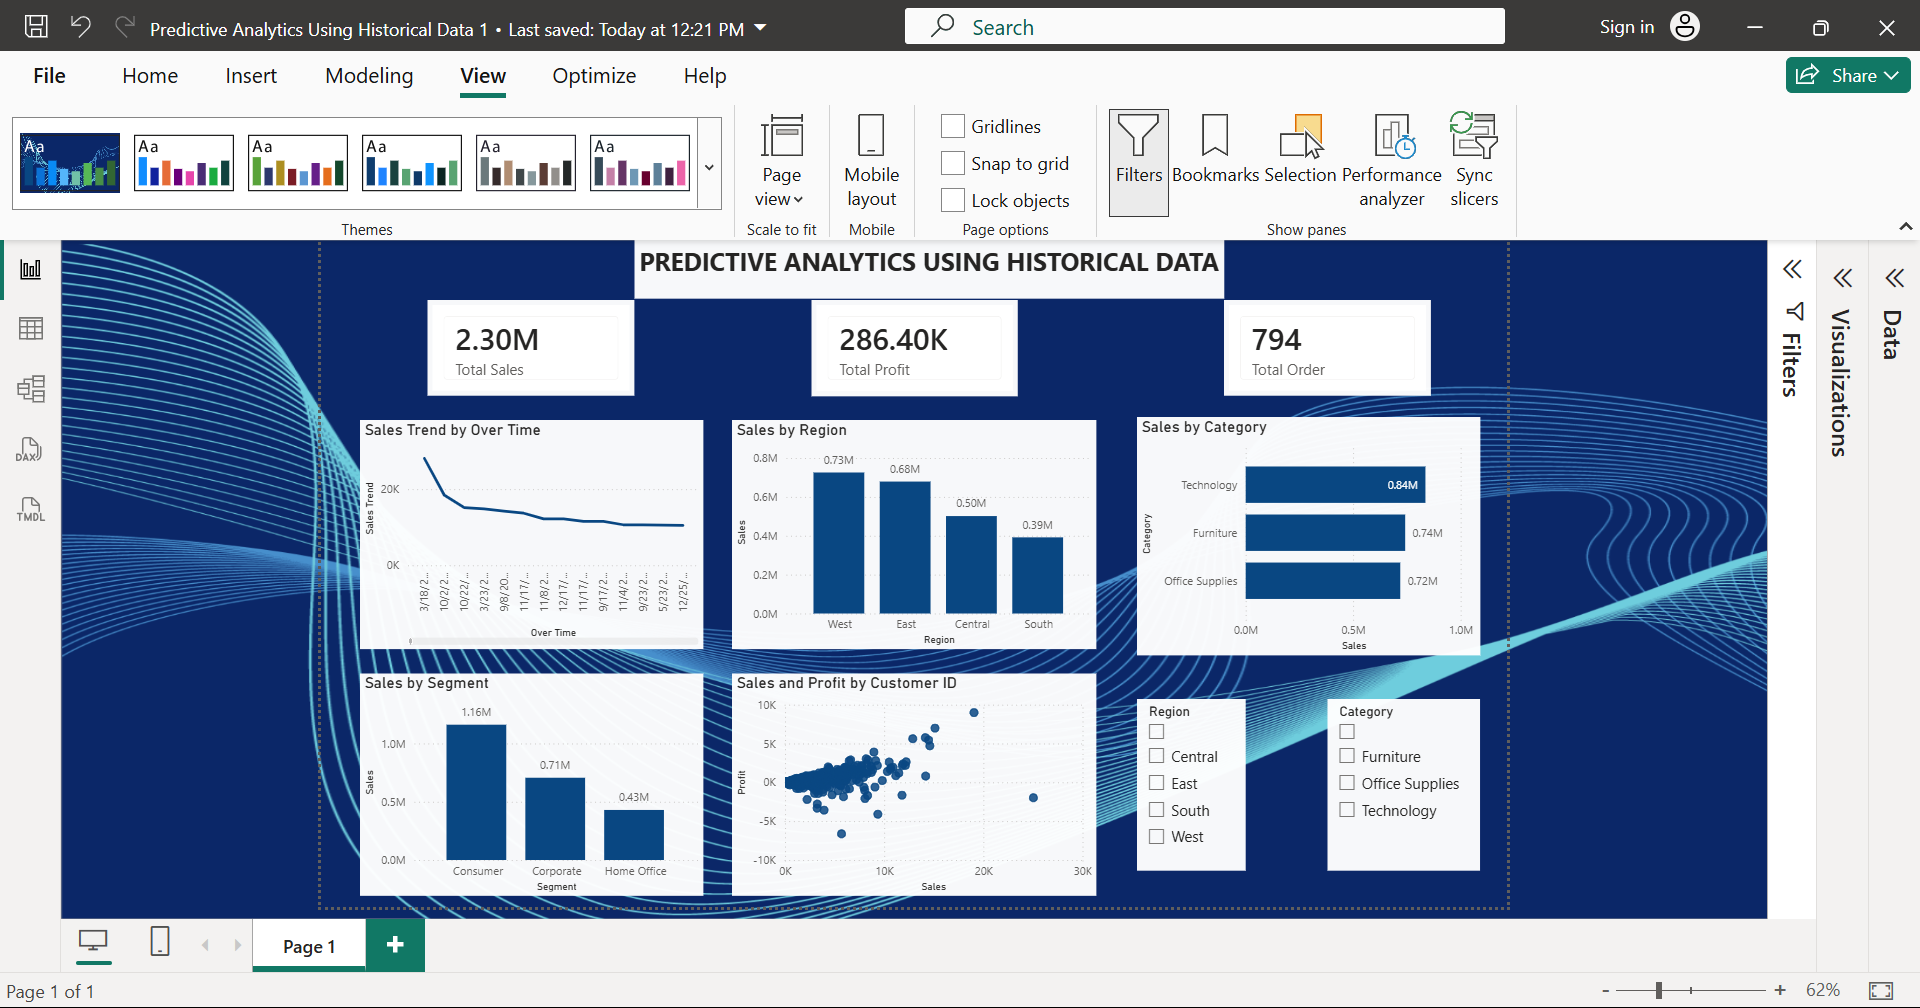

This screenshot's page, from the dashboard's own definition file:
{"tool":"powerbi","page":{"name":"Page 1","canvas":[1280,720],"ordinal":0},"visuals":[{"type":"cardVisual","fields":{"Data":["Sum(superstore.Sales)"]},"box":[115,64.8,223.5,103.6],"z":0},{"type":"cardVisual","fields":{"Data":["Sum(superstore.Profit)"]},"box":[529.1,64.3,223,103.9],"z":1000},{"type":"cardVisual","fields":{"Data":["Count(superstore.Customer ID)"]},"box":[974.8,64.8,223.5,103.6],"z":2000},{"type":"lineChart","fields":{"Y":["Sum(superstore.Sales)"],"Category":["superstore.Order Date"]},"box":[41.6,194.6,370.4,247.6],"z":3000},{"type":"clusteredColumnChart","fields":{"Category":["superstore.Region"],"Y":["Sum(superstore.Sales)"]},"box":[444.1,194.6,393.1,247.6],"z":3001},{"type":"clusteredBarChart","fields":{"Category":["superstore.Category"],"Y":["Sum(superstore.Sales)"]},"box":[880.6,190.9,370.4,257],"z":3002},{"type":"clusteredColumnChart","fields":{"Category":["superstore.Segment"],"Y":["Sum(superstore.Sales)"]},"box":[41.6,468.7,370.4,240],"z":3003},{"type":"scatterChart","fields":{"X":["Sum(superstore.Sales)"],"Y":["Sum(superstore.Profit)"],"Category":["superstore.Customer ID"]},"box":[444.1,468.7,393.1,240],"z":3004},{"type":"slicer","fields":{"Values":["superstore.Region"]},"box":[880.6,495.1,117.2,185.2],"z":3005},{"type":"slicer","fields":{"Values":["superstore.Category"]},"box":[1086.6,495.1,164.4,185.2],"z":3006},{"type":"textbox","box":[338.4,0,636.4,63.1],"z":3007}]}

Visuals, with their boxes on the page's 1280x720 design canvas (x1, y1, x2, y2). These are canvas units, not pixel positions in the 1920x1008 screenshot, which may show the page scaled, cropped or inside an application window:
cardVisual - Sum(superstore.Sales): {"x1": 115, "y1": 65, "x2": 338, "y2": 168}
cardVisual - Sum(superstore.Profit): {"x1": 529, "y1": 64, "x2": 752, "y2": 168}
cardVisual - Count(superstore.Customer ID): {"x1": 975, "y1": 65, "x2": 1198, "y2": 168}
lineChart - Sum(superstore.Sales) x superstore.Order Date: {"x1": 42, "y1": 195, "x2": 412, "y2": 442}
clusteredColumnChart - superstore.Region x Sum(superstore.Sales): {"x1": 444, "y1": 195, "x2": 837, "y2": 442}
clusteredBarChart - superstore.Category x Sum(superstore.Sales): {"x1": 881, "y1": 191, "x2": 1251, "y2": 448}
clusteredColumnChart - superstore.Segment x Sum(superstore.Sales): {"x1": 42, "y1": 469, "x2": 412, "y2": 709}
scatterChart - Sum(superstore.Sales) x Sum(superstore.Profit): {"x1": 444, "y1": 469, "x2": 837, "y2": 709}
slicer - superstore.Region: {"x1": 881, "y1": 495, "x2": 998, "y2": 680}
slicer - superstore.Category: {"x1": 1087, "y1": 495, "x2": 1251, "y2": 680}
textbox: {"x1": 338, "y1": 0, "x2": 975, "y2": 63}
